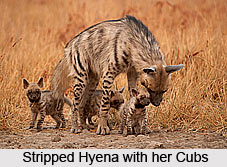hyena: (56, 20, 179, 137), (21, 75, 68, 131), (75, 85, 125, 122), (121, 85, 154, 137)
